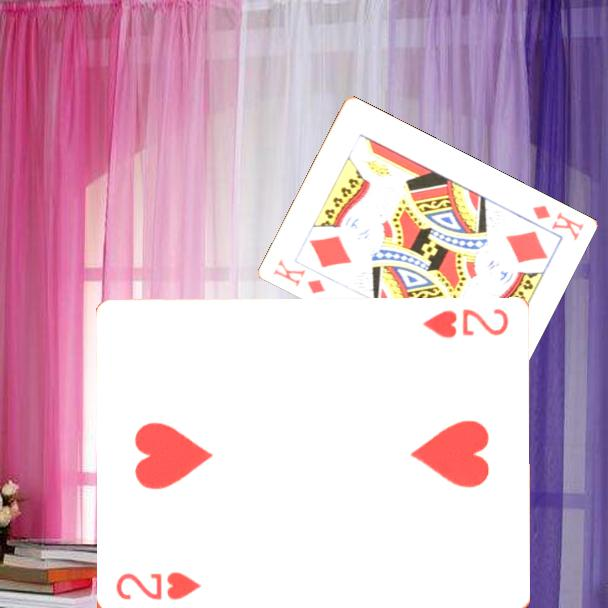d13: (528, 201, 586, 244), (269, 256, 328, 297)
h02: (112, 568, 203, 604), (419, 306, 511, 341)
